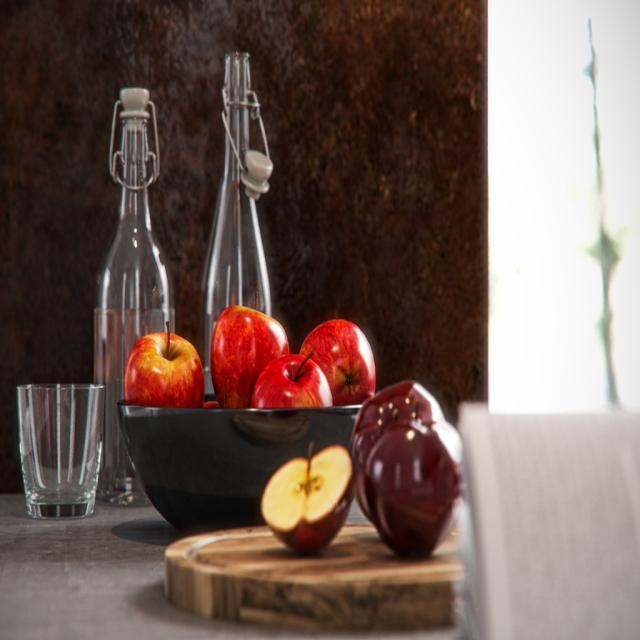Healty Apple: (365, 405, 463, 559), (350, 376, 440, 520), (262, 441, 353, 556), (210, 302, 290, 408), (296, 320, 376, 408), (124, 321, 204, 407), (252, 350, 332, 410)
